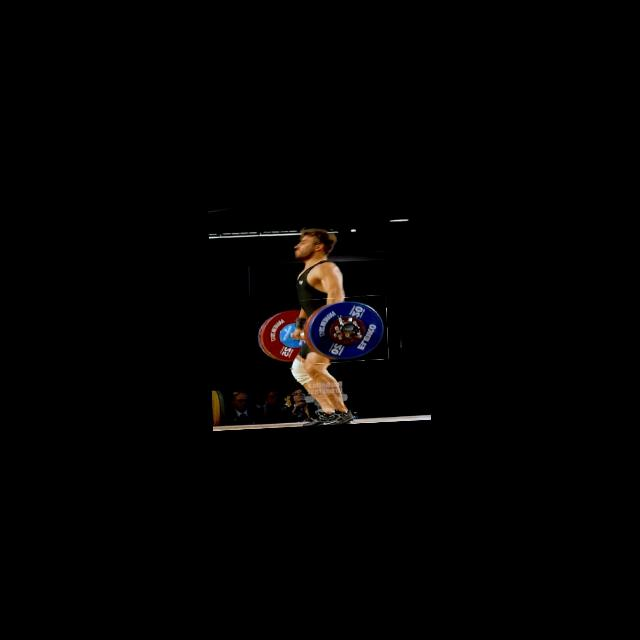barbell: (299, 297, 387, 365)
